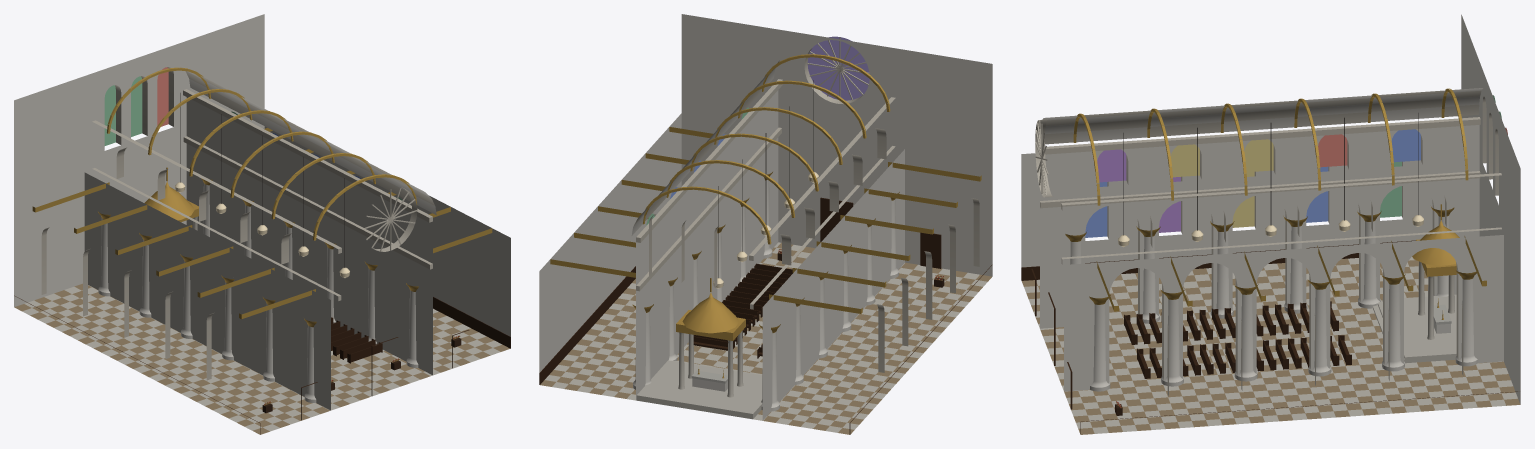
Rendered from ssPeterPaul_int.glb.
3 renders of one model, left to right at view 1: azimuth 30°, elevation 25°; view 2: azimuth 150°, elevation 25°; view 3: azimuth 270°, elevation 25°, orthographic. The views are drawn at different scales.
Visible parts, largest first — view 1: I_x_plaster, I_x_marble_white, I_x_gold, I_x_veneer, I_stained; view 2: I_x_plaster, I_x_marble_white, I_x_gold, I_x_veneer, I_stained, I_metal; view 3: I_x_plaster, I_x_marble_white, I_stained, I_x_veneer, I_x_gold, I_lampI, I_metal.
Part boxes in pixels (bbox=[...]): I_x_plaster: bbox=[14, 14, 510, 410]; I_x_marble_white: bbox=[14, 183, 509, 434]; I_x_gold: bbox=[98, 67, 418, 327]; I_x_veneer: bbox=[14, 295, 510, 434]; I_stained: bbox=[104, 67, 402, 200]; I_x_plaster: bbox=[539, 14, 992, 420]; I_x_marble_white: bbox=[540, 180, 991, 434]; I_x_gold: bbox=[632, 54, 899, 378]; I_x_veneer: bbox=[539, 197, 992, 434]; I_stained: bbox=[646, 36, 869, 225]; I_metal: bbox=[718, 80, 813, 277]; I_x_plaster: bbox=[1021, 14, 1520, 404]; I_x_marble_white: bbox=[1021, 216, 1520, 434]; I_stained: bbox=[1085, 95, 1507, 237]; I_x_veneer: bbox=[1021, 240, 1517, 434]; I_x_gold: bbox=[1065, 88, 1478, 319]; I_lampI: bbox=[1118, 215, 1443, 313]; I_metal: bbox=[1123, 113, 1418, 235].
Bounding box in the file's own units: 35.93 × 21.5 × 41.09.
